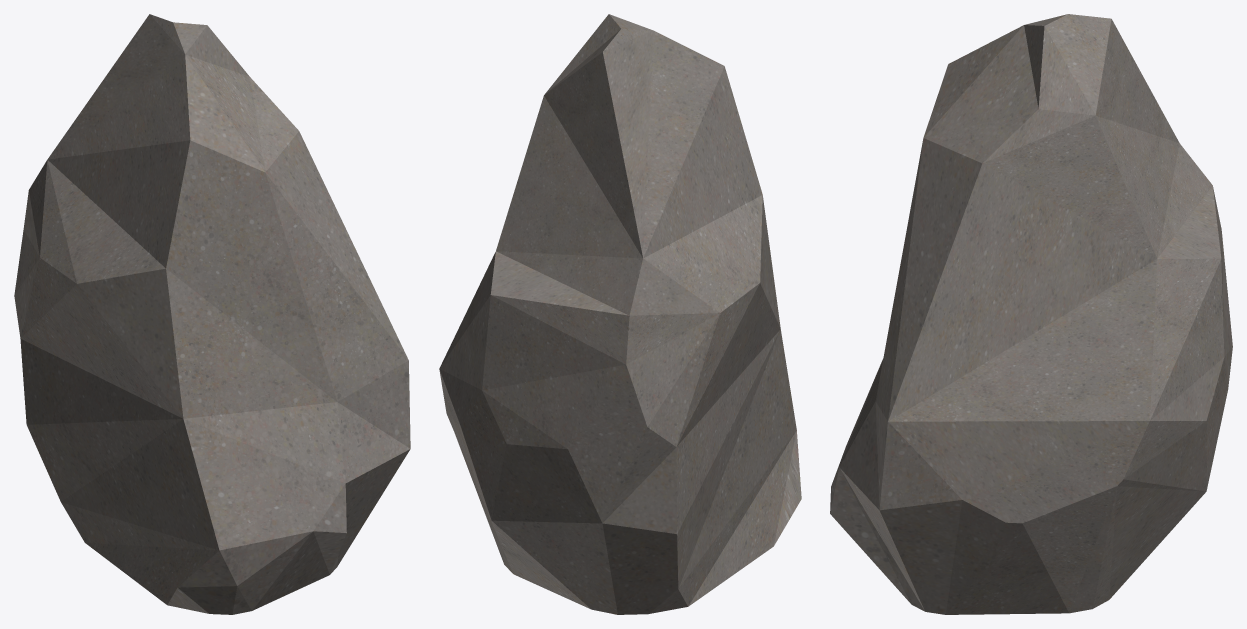
The model's file is rock.glb.
3 renders of one model, left to right at view 1: azimuth 30°, elevation 25°; view 2: azimuth 150°, elevation 25°; view 3: azimuth 270°, elevation 25°, orthographic. The views are drawn at different scales.
Parts seen in each view (by area): view 1: Rock; view 2: Rock; view 3: Rock.
Part boxes in pixels (box(x1,y1,x2,y2)): Rock: box(14, 14, 410, 614); Rock: box(439, 14, 801, 614); Rock: box(830, 14, 1232, 614).
Bounding box in the file's own units: 1.49 × 2.8 × 1.86.
1 material, 1 textured.
